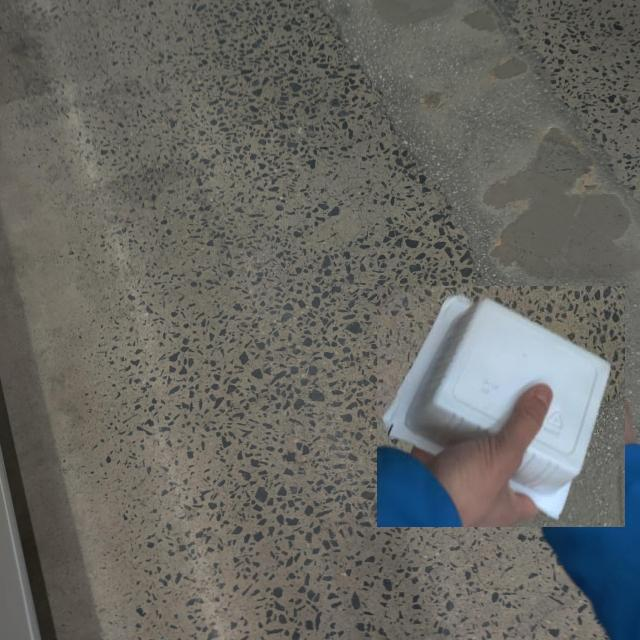Tofu: (377, 286, 625, 526)
